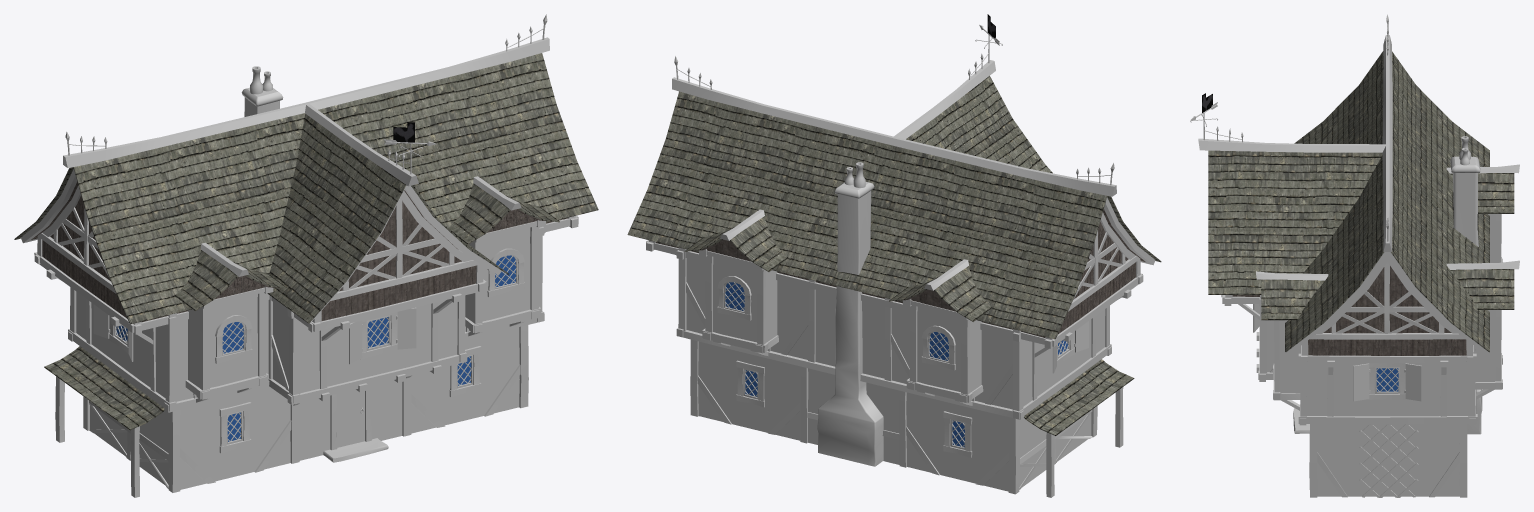
The model's file is mw_type_1_cottage_07.FBX.
3 renders of one model, left to right at view 1: azimuth 30°, elevation 25°; view 2: azimuth 150°, elevation 25°; view 3: azimuth 270°, elevation 25°, orthographic. The views are drawn at different scales.
Visible parts, largest first — view 1: mw_type_1_cottage_07_roof, mw_type_1_cottage_07_wood, mw_type_1_cottage_07_stone, mw_type_1_cottage_07, mw_type_1_cottage_07_vane; view 2: mw_type_1_cottage_07_roof, mw_type_1_cottage_07_stone, mw_type_1_cottage_07_wood, mw_type_1_cottage_07; view 3: mw_type_1_cottage_07_roof, mw_type_1_cottage_07_wood, mw_type_1_cottage_07_stone, mw_type_1_cottage_07.
Part boxes in pixels (bbox=[...]): mw_type_1_cottage_07_roof: bbox=[14, 53, 598, 430]; mw_type_1_cottage_07_wood: bbox=[21, 37, 578, 497]; mw_type_1_cottage_07_stone: bbox=[76, 66, 530, 489]; mw_type_1_cottage_07: bbox=[65, 14, 547, 447]; mw_type_1_cottage_07_vane: bbox=[384, 122, 436, 174]; mw_type_1_cottage_07_roof: bbox=[627, 76, 1161, 435]; mw_type_1_cottage_07_stone: bbox=[686, 162, 1105, 491]; mw_type_1_cottage_07_wood: bbox=[646, 60, 1155, 497]; mw_type_1_cottage_07: bbox=[674, 53, 1114, 449]; mw_type_1_cottage_07_roof: bbox=[1208, 51, 1514, 352]; mw_type_1_cottage_07_wood: bbox=[1198, 35, 1519, 497]; mw_type_1_cottage_07_stone: bbox=[1267, 136, 1496, 496]; mw_type_1_cottage_07: bbox=[1204, 14, 1421, 401].
Bounding box in the file's own units: 2004 × 1470 × 1341.
